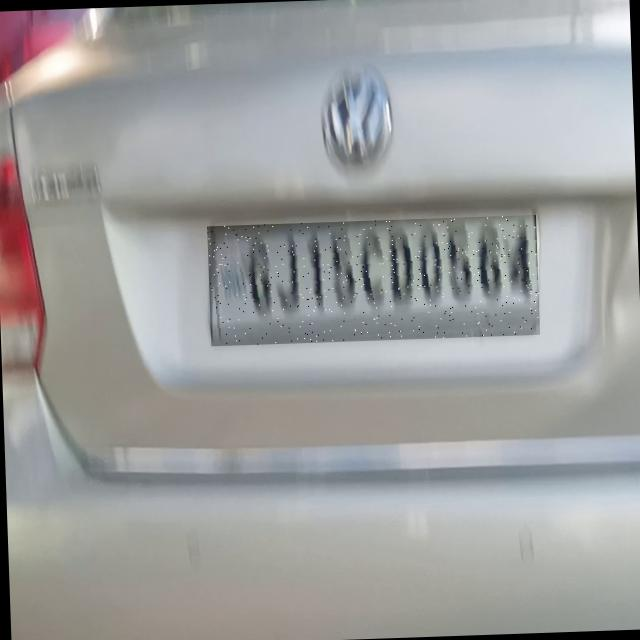Plate: (208, 216, 541, 347)
